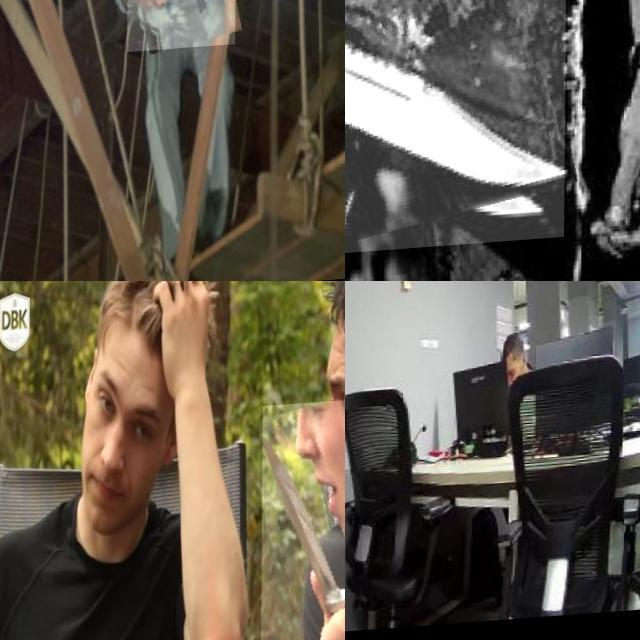-: (345, 0, 566, 267), (261, 403, 345, 640), (345, 558, 367, 640)
gun-knife-thesis - v11 Yolov5 augmented: (127, 0, 236, 87)
